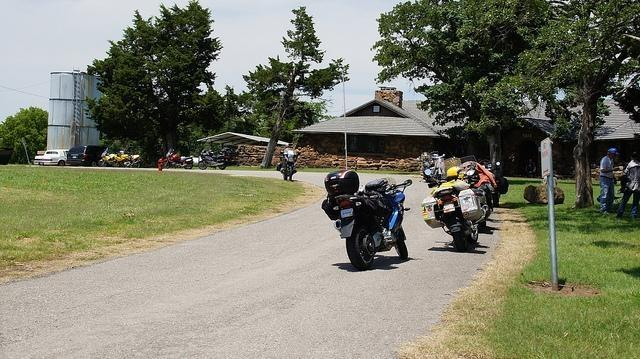car: (66, 144, 116, 167), (42, 150, 70, 166)
motorcycle: (321, 169, 411, 271), (421, 161, 497, 253), (276, 148, 298, 183), (162, 146, 194, 170), (198, 146, 227, 171), (99, 148, 132, 167), (427, 153, 448, 181)
truck: (66, 144, 106, 166)
